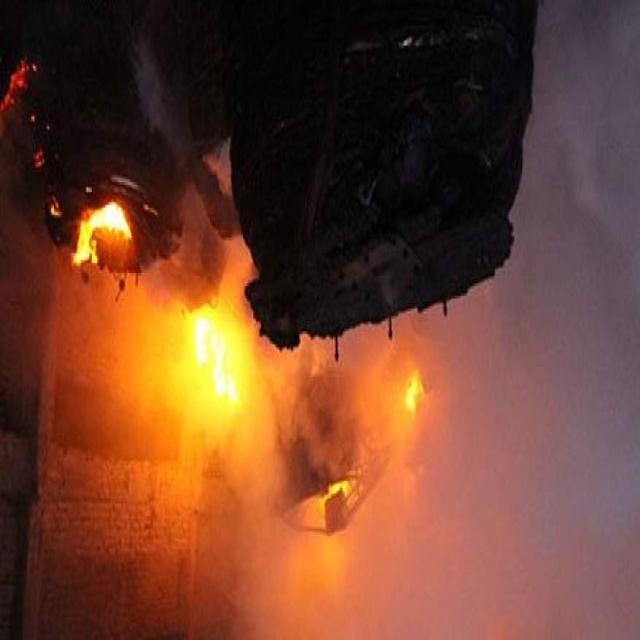fire: (304, 352, 433, 552), (182, 244, 272, 423), (51, 152, 155, 278)
